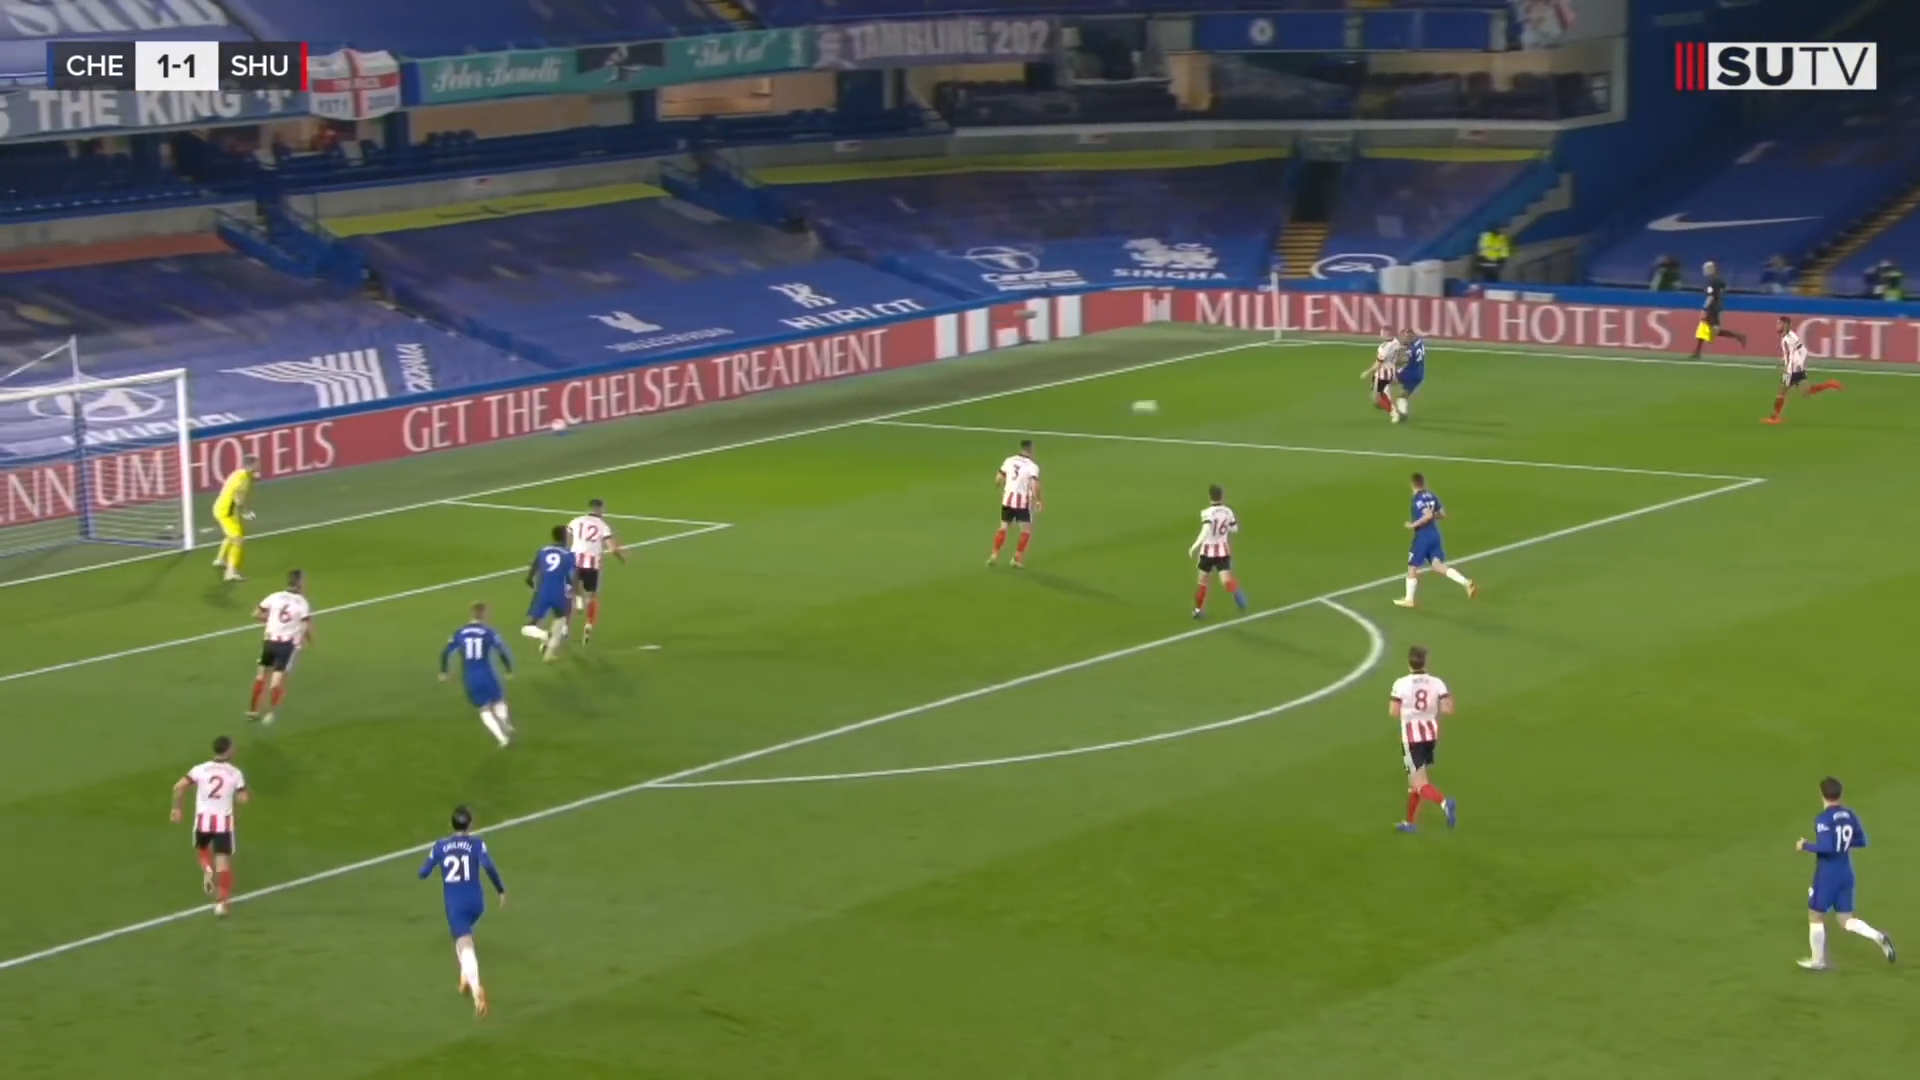Player: (1796, 761, 1901, 984), (416, 793, 518, 1009), (1378, 634, 1465, 842), (168, 733, 256, 926), (1391, 460, 1477, 609), (1183, 475, 1251, 625), (980, 427, 1047, 579)
